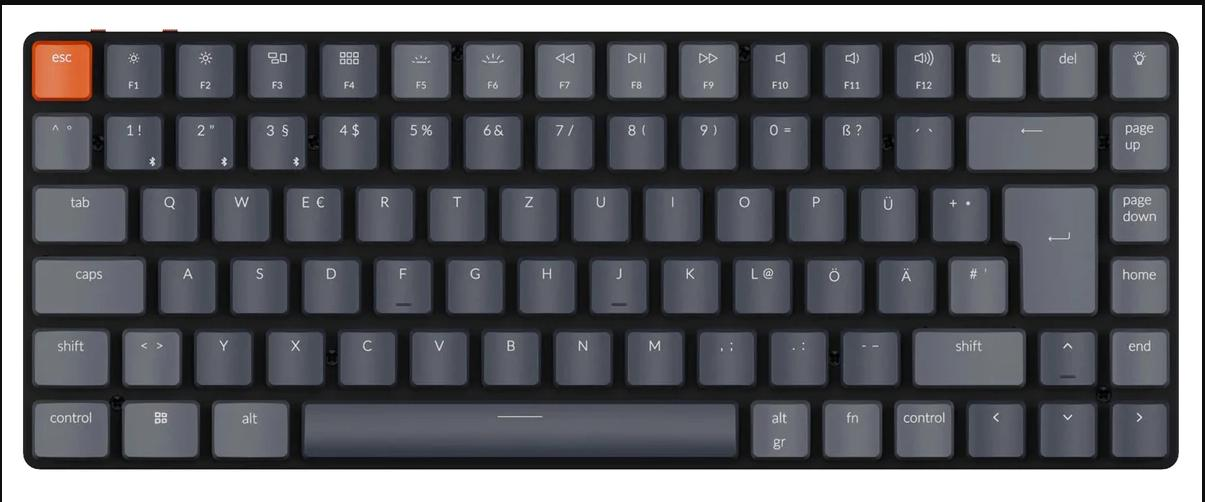0: (748, 110, 809, 168)
1: (102, 110, 161, 168)
2: (173, 110, 233, 168)
3: (246, 110, 306, 168)
4: (317, 110, 377, 168)
5: (389, 109, 450, 168)
6: (460, 110, 522, 168)
7: (533, 110, 593, 168)
8: (604, 110, 665, 168)
9: (676, 110, 737, 167)
a: (156, 254, 215, 311)
accent: (892, 110, 951, 167)
ae: (874, 254, 933, 311)
alt-left: (208, 396, 289, 456)
altgr-right: (746, 397, 809, 456)
b: (478, 325, 540, 382)
c: (335, 326, 396, 382)
caret: (30, 109, 89, 167)
comma: (694, 326, 753, 382)
d: (299, 254, 359, 311)
del: (963, 109, 1096, 168)
e: (281, 182, 341, 239)
enter: (999, 178, 1098, 314)
f: (371, 253, 431, 311)
g: (443, 254, 503, 311)
h: (515, 254, 574, 311)
hash: (945, 252, 1004, 312)
i: (640, 182, 700, 238)
j: (587, 253, 646, 312)
k: (658, 253, 718, 311)
keyboard: (11, 15, 1188, 477)
l: (730, 253, 790, 311)
less: (119, 325, 180, 383)
m: (622, 325, 682, 382)
minus: (837, 326, 897, 382)
n: (551, 326, 611, 382)
o: (711, 182, 772, 239)
oe: (802, 254, 862, 311)
p: (784, 182, 844, 239)
plus: (928, 182, 988, 239)
point: (767, 326, 826, 382)
q: (137, 182, 198, 240)
r: (353, 182, 413, 239)
s: (228, 254, 287, 311)
shift-left: (28, 324, 108, 383)
shift-lock: (29, 253, 144, 312)
shift-right: (909, 324, 1023, 383)
space: (294, 397, 742, 458)
ss: (819, 110, 880, 168)
strg-left: (27, 396, 109, 457)
strg-right: (890, 396, 954, 456)
t: (426, 182, 484, 239)
tab: (30, 181, 125, 240)
u: (569, 182, 629, 240)
ue: (855, 182, 916, 240)
v: (408, 326, 468, 382)
w: (210, 181, 269, 239)
x: (264, 326, 324, 382)
y: (192, 326, 251, 383)
z: (497, 182, 557, 239)
